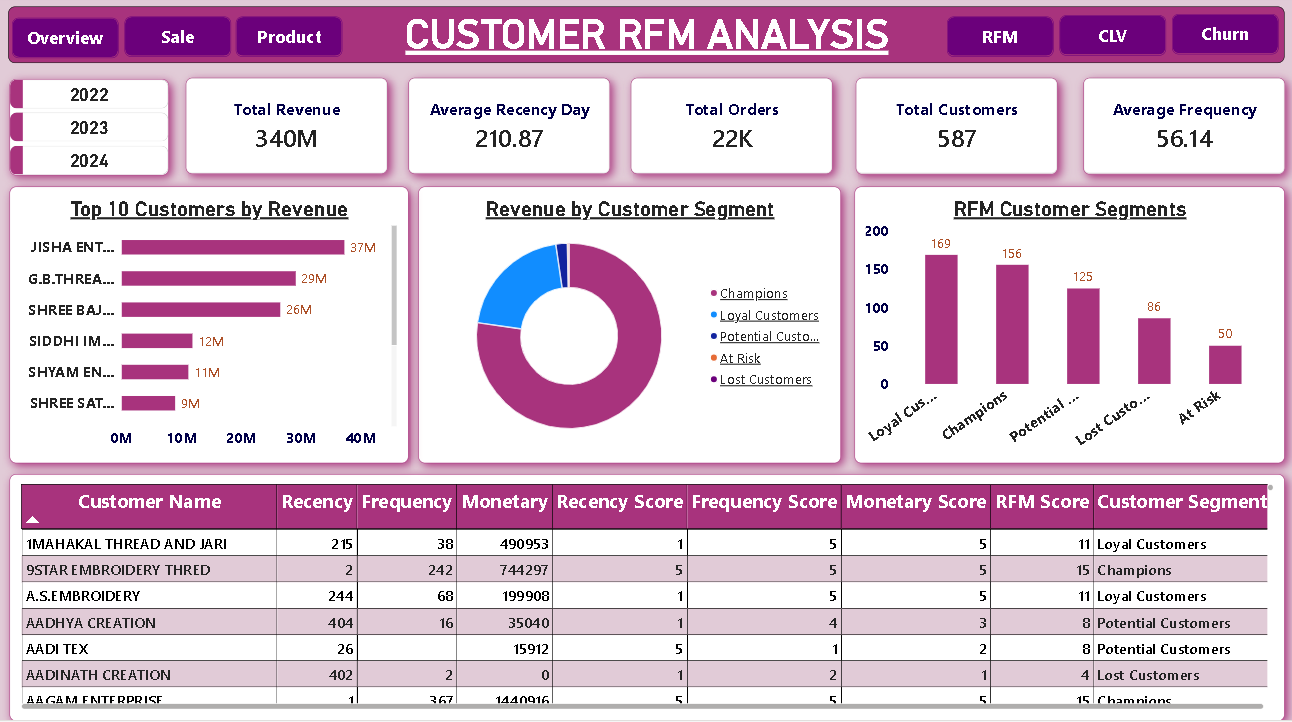

The page's visual inventory and layout, read from the dashboard file:
{"tool":"powerbi","page":{"name":"RFM","canvas":[1920,1080],"ordinal":4},"visuals":[{"type":"cardVisual","fields":{"Data":["RFM_Customer.Total Revenue"]},"box":[273.3,124.7,300,143],"z":0},{"type":"cardVisual","fields":{"Data":["Master_Data.Average Recency"]},"box":[603.5,124.7,300,143],"z":1000},{"type":"cardVisual","fields":{"Data":["Master_Data.Total Orders"]},"box":[933.6,124.7,300,143],"z":2000},{"type":"cardVisual","title":"total","fields":{"Data":["Master_Data.Total Customers"]},"box":[1267.5,124.7,300,143.6],"z":3000},{"type":"cardVisual","fields":{"Data":["RFM_Customer.Average Frequency"]},"box":[1605.7,124.5,300,143.6],"z":4000},{"type":"textbox","title":"CUSTOMER RFM ANALYSIS","box":[9.2,18.3,1896,84],"z":5000},{"type":"tableEx","fields":{"Values":["RFM_Customer.Customer Name","Sum(RFM_Customer.Recency)","Sum(RFM_Customer.Frequency)","Sum(RFM_Customer.Monetary)","Sum(RFM_Customer.Recency Score)","Sum(RFM_Customer.Frequency Score)","Sum(RFM_Customer.Monetary Score)","Sum(RFM_Customer.RFM Score)","RFM_Customer.Customer Segment"]},"box":[11,713.5,1894.8,366.8],"z":6000},{"type":"columnChart","title":"RFM Customer Segments","fields":{"Category":["RFM_Customer.Customer Segment"],"Y":["CountNonNull(RFM_Customer.Customer Name)"]},"box":[1266.7,285.2,638.9,411.1],"z":7000},{"type":"pieChart","title":"Revenue by Customer Segment","fields":{"Category":["RFM_Customer.Customer Segment"],"Y":["Sum(RFM_Customer.Monetary)"]},"box":[618.5,285.2,627.8,411.1],"z":8000},{"type":"barChart","title":"Top 10 Customers by Revenue","fields":{"Category":["RFM_Customer.Customer Name"],"Y":["Sum(RFM_Customer.Monetary)"]},"box":[11.1,285.2,592.6,411.1],"z":9000},{"type":"advancedSlicerVisual","fields":{"Values":["Master_Data.Bill Date.Variation.Date Hierarchy.Year"]},"box":[10.9,125.5,237,143],"z":10000},{"type":"actionButton","box":[14.4,35,158.5,59.7],"z":10001},{"type":"actionButton","box":[181.1,32.9,158.5,59.7],"z":10002},{"type":"actionButton","box":[347.9,32.9,158.5,59.7],"z":10003},{"type":"actionButton","box":[1737.2,28.8,158.5,59.7],"z":10004},{"type":"actionButton","box":[1570.5,30.9,158.5,59.7],"z":10005},{"type":"actionButton","box":[1403.8,32.9,158.5,59.7],"z":10006}]}

Visuals, with their boxes in screenshot pixels (x1, y1, x2, y2), scaled from the page's 1920x1080 canvas onto the 1292x722 screenshot:
cardVisual - RFM_Customer.Total Revenue: [x1=184, y1=83, x2=386, y2=179]
cardVisual - Master_Data.Average Recency: [x1=406, y1=83, x2=608, y2=179]
cardVisual - Master_Data.Total Orders: [x1=628, y1=83, x2=830, y2=179]
"total" cardVisual: [x1=853, y1=83, x2=1055, y2=179]
cardVisual - RFM_Customer.Average Frequency: [x1=1081, y1=83, x2=1282, y2=179]
"CUSTOMER RFM ANALYSIS" textbox: [x1=6, y1=12, x2=1282, y2=68]
tableEx - RFM_Customer.Customer Name x Sum(RFM_Customer.Recency): [x1=7, y1=477, x2=1282, y2=721]
"RFM Customer Segments" columnChart: [x1=852, y1=191, x2=1282, y2=465]
"Revenue by Customer Segment" pieChart: [x1=416, y1=191, x2=839, y2=465]
"Top 10 Customers by Revenue" barChart: [x1=7, y1=191, x2=406, y2=465]
advancedSlicerVisual - Master_Data.Bill Date.Variation.Date Hierarchy.Year: [x1=7, y1=84, x2=167, y2=179]
actionButton: [x1=10, y1=23, x2=116, y2=63]
actionButton: [x1=122, y1=22, x2=229, y2=62]
actionButton: [x1=234, y1=22, x2=341, y2=62]
actionButton: [x1=1169, y1=19, x2=1276, y2=59]
actionButton: [x1=1057, y1=21, x2=1163, y2=61]
actionButton: [x1=945, y1=22, x2=1051, y2=62]
